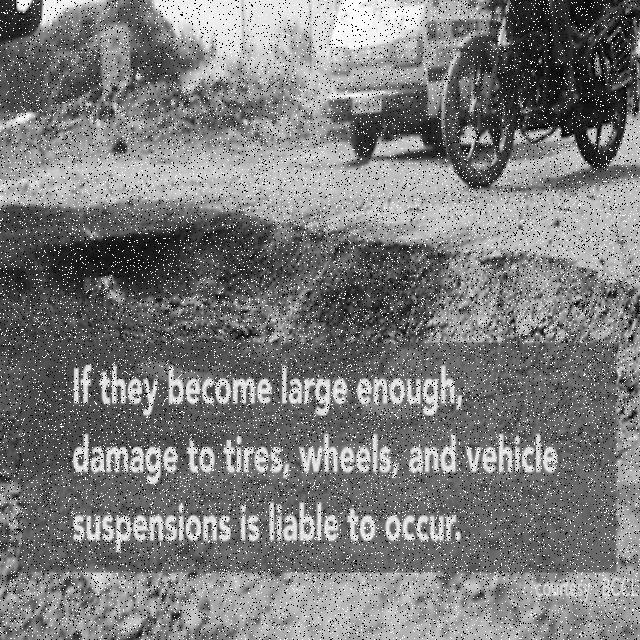pothole: (0, 214, 640, 470)
